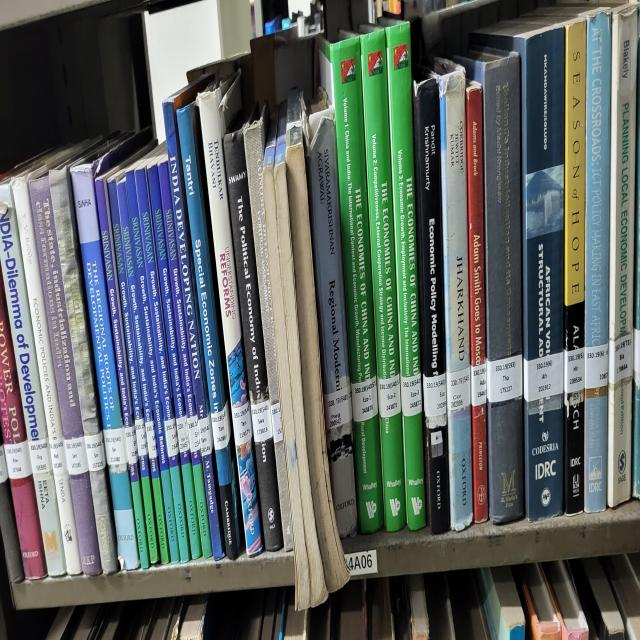Book: (479, 24, 565, 519), (319, 35, 384, 533), (159, 76, 225, 560), (66, 138, 139, 571), (198, 81, 262, 555), (176, 103, 241, 560), (29, 176, 101, 574), (49, 162, 118, 574), (12, 173, 81, 574), (0, 179, 66, 576), (224, 127, 282, 549), (360, 27, 406, 530), (134, 162, 190, 563), (244, 103, 294, 552), (306, 106, 358, 536), (158, 160, 212, 557), (384, 22, 426, 530), (95, 173, 149, 568), (454, 49, 522, 360), (126, 165, 179, 560), (434, 60, 472, 530), (412, 78, 450, 533), (608, 5, 638, 506), (128, 216, 170, 563), (0, 265, 46, 579), (109, 176, 149, 476), (146, 162, 186, 419), (465, 81, 488, 522), (585, 14, 611, 346), (564, 19, 586, 306), (118, 181, 128, 265), (125, 168, 138, 216), (611, 260, 614, 268), (96, 371, 98, 376), (531, 133, 532, 138)
Label: (524, 352, 564, 403), (486, 354, 522, 403), (324, 384, 352, 430), (351, 376, 378, 422), (609, 333, 632, 384), (446, 368, 470, 414), (585, 344, 609, 390), (4, 441, 32, 479), (422, 373, 446, 417), (378, 373, 401, 417), (64, 436, 89, 476), (564, 346, 584, 395), (400, 373, 422, 417), (231, 400, 252, 446), (251, 398, 272, 444), (211, 403, 230, 452), (104, 427, 126, 465), (29, 438, 52, 473), (85, 433, 106, 471), (49, 438, 68, 476), (470, 363, 486, 406), (124, 425, 139, 465), (164, 417, 179, 457), (176, 414, 190, 455), (199, 414, 212, 457), (145, 419, 158, 460), (135, 419, 149, 457), (188, 414, 200, 455), (271, 400, 282, 444)
